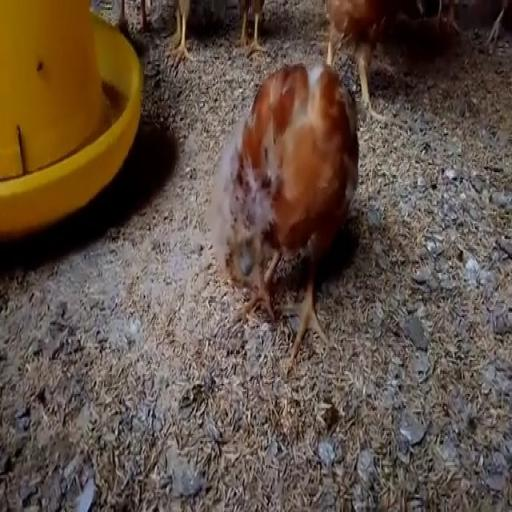disease: (221, 216, 269, 302)
